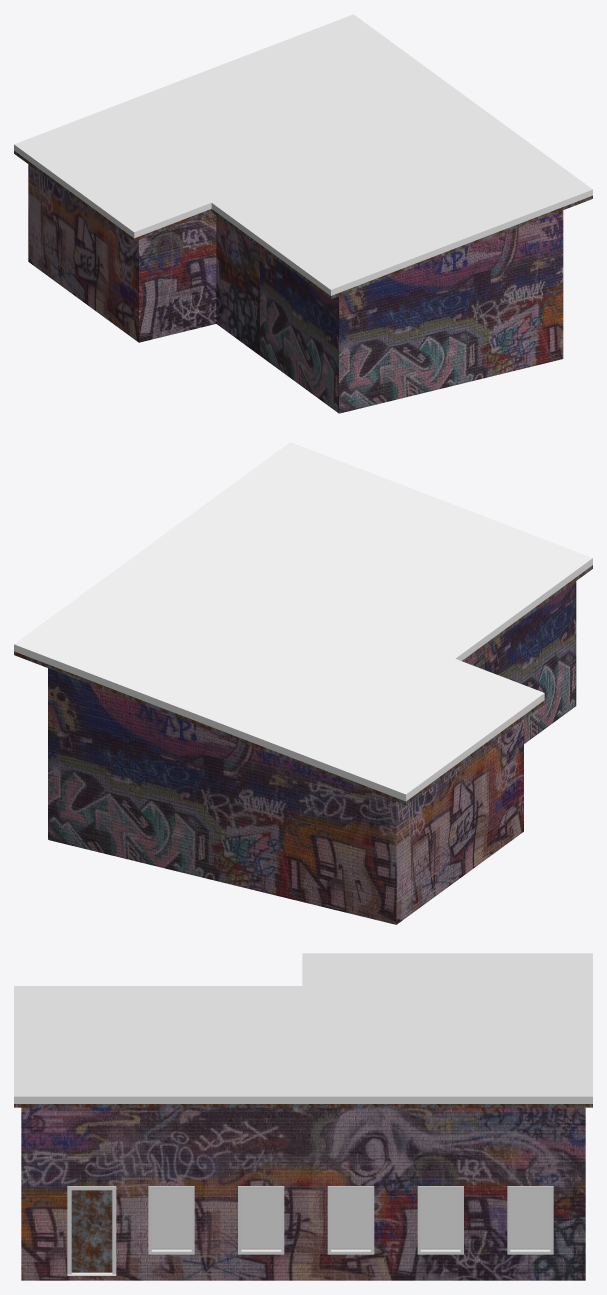
Rendered from qg-exterior.glb.
3 renders of one model, top to bottom at view 1: azimuth 30°, elevation 25°; view 2: azimuth 150°, elevation 25°; view 3: azimuth 270°, elevation 25°, orthographic. The views are drawn at different scales.
Parts seen in each view (by area): view 1: SketchUp, group_1; view 2: SketchUp, group_1; view 3: group_1, SketchUp, instance_2, instance_0, instance_1, instance_3, instance_4.
Boxes of the visible parts, x1,y1,x2,y2 form: SketchUp: (14, 14, 592, 298); group_1: (28, 164, 563, 413); SketchUp: (14, 442, 592, 804); group_1: (48, 581, 576, 924); group_1: (21, 1107, 585, 1280); SketchUp: (14, 953, 592, 1107); instance_2: (327, 1186, 374, 1254); instance_0: (148, 1186, 194, 1254); instance_1: (238, 1186, 284, 1254); instance_3: (417, 1186, 463, 1254); instance_4: (507, 1186, 553, 1254).
Size of the model in its own units: 11.27 by 5.24 by 13.77.
Materials: 5 (2 with a texture image).
